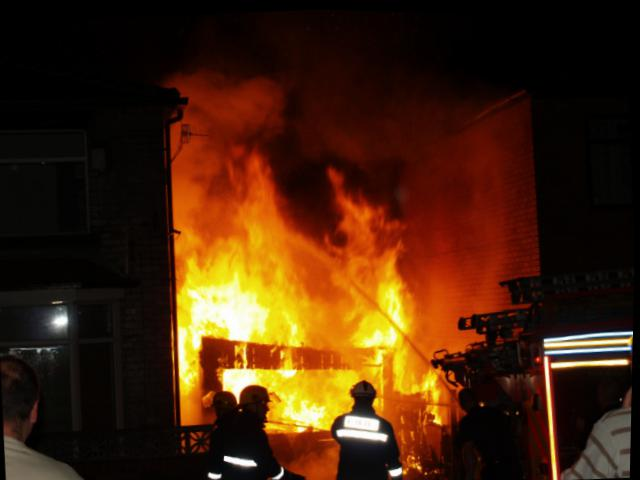fire: (163, 90, 456, 479)
